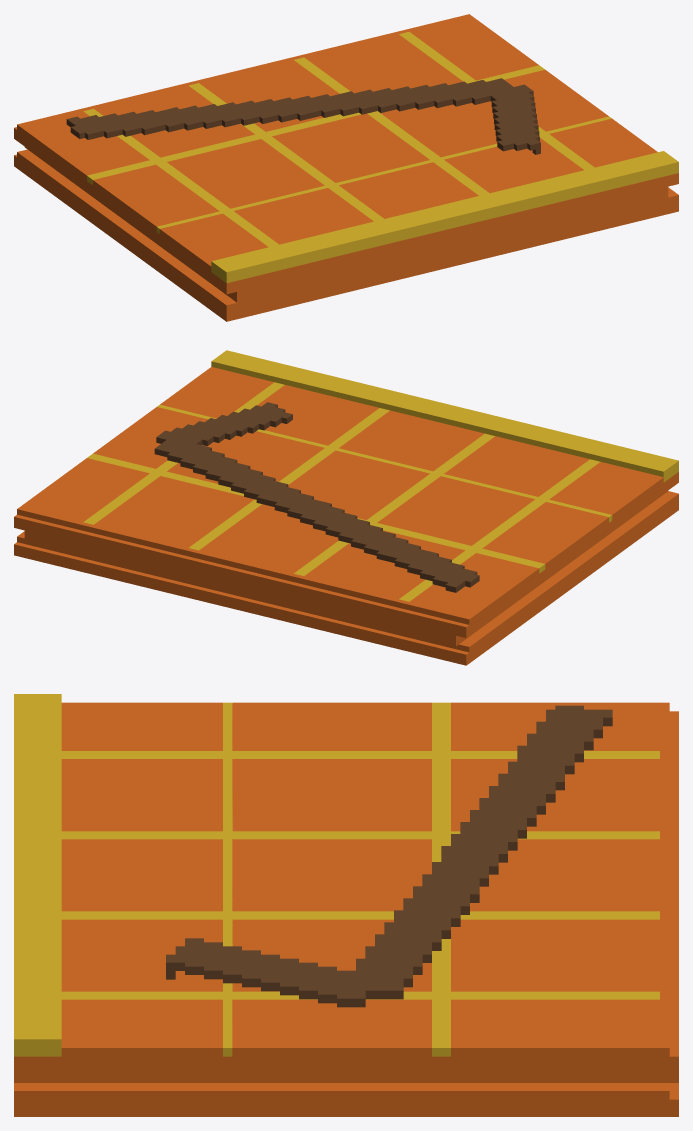
Rendered from antarvasa.glb.
3 views of the same model, one above another, from view 1: azimuth 30°, elevation 25°; view 2: azimuth 150°, elevation 25°; view 3: azimuth 270°, elevation 25° (orthographic). The views are drawn at different scales.
Parts seen in each view (by area): view 1: antarvasa:compound; view 2: antarvasa:compound; view 3: antarvasa:compound.
Boxes of the visible parts, x1,y1,x2,y2 form: antarvasa:compound: (14, 14, 678, 321); antarvasa:compound: (14, 350, 678, 665); antarvasa:compound: (14, 694, 678, 1116).
Size of the model in its own units: 0.344 by 0.04 by 0.28.
